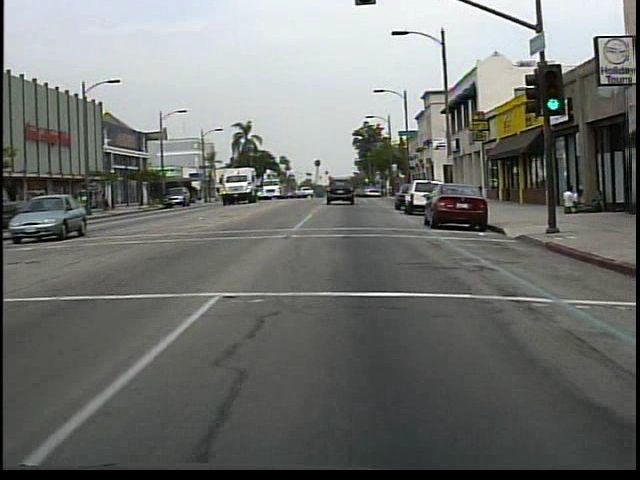person: (558, 186, 575, 216), (99, 189, 112, 212)
